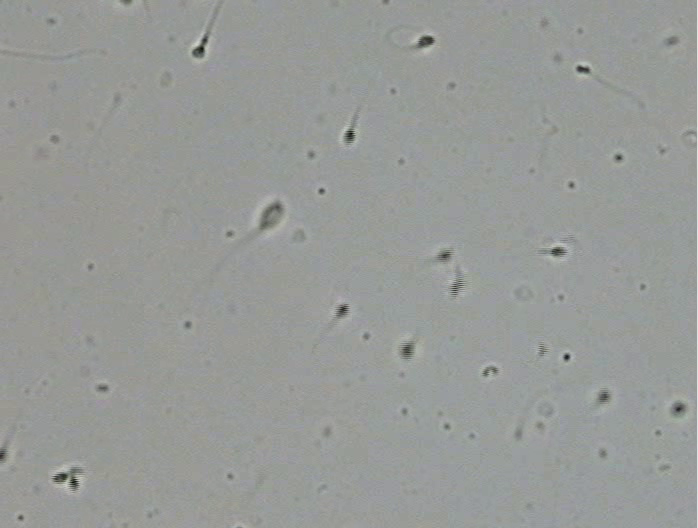S: (259, 201, 284, 231), (449, 274, 465, 297), (399, 341, 414, 360), (343, 128, 356, 146), (417, 35, 435, 48), (335, 304, 350, 318), (67, 476, 80, 492), (51, 472, 68, 484), (550, 246, 568, 257), (597, 389, 610, 404), (671, 403, 687, 415), (192, 45, 205, 58), (436, 250, 451, 261), (575, 64, 591, 74), (1, 448, 7, 462)
